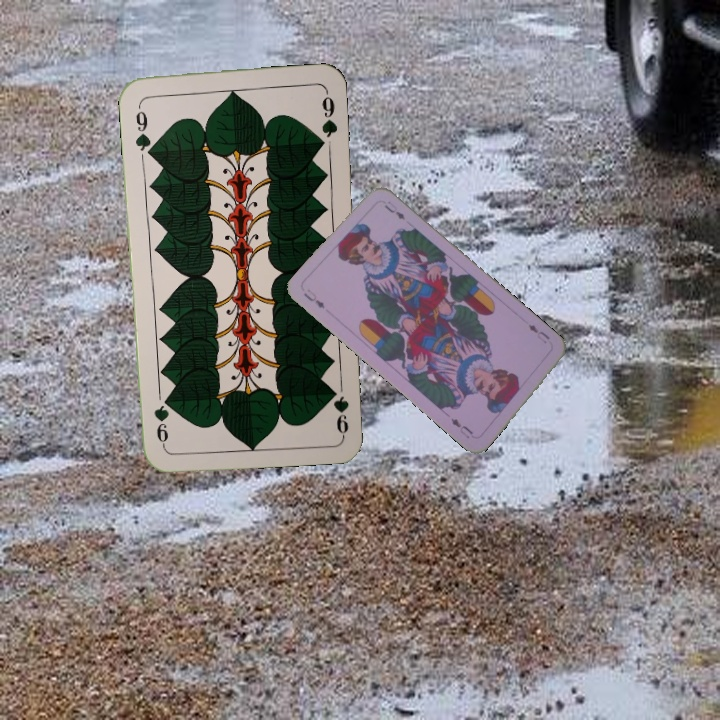EU: (524, 320, 553, 346), (299, 285, 327, 311)
G9: (131, 99, 155, 158), (330, 392, 352, 437)
